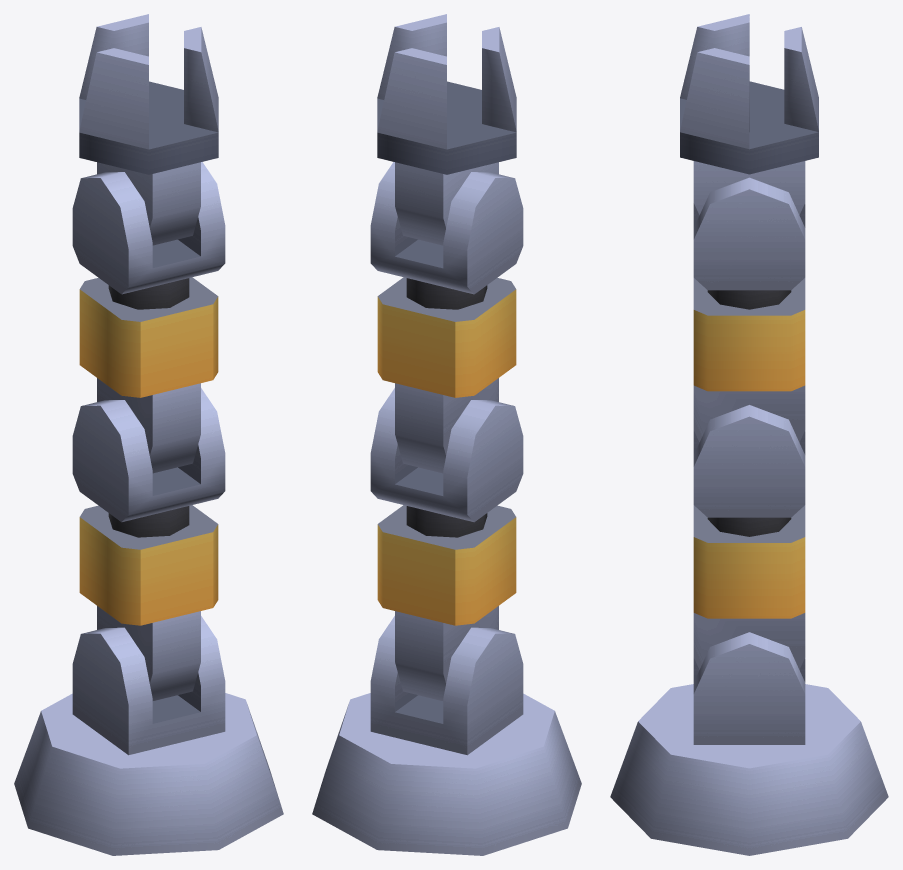
Rendered from kcv_robot_arm_b.glb.
3 renders of one model, left to right at view 1: azimuth 30°, elevation 25°; view 2: azimuth 150°, elevation 25°; view 3: azimuth 270°, elevation 25°, orthographic.
Visible parts, largest first — view 1: robot-arm-b, element-f, element-b, element-d, element-a, element-e, element-c; view 2: robot-arm-b, element-f, element-b, element-d, element-a, element-e, element-c; view 3: robot-arm-b, element-f, element-b, element-d, element-a, element-e, element-c.
Boxes of the visible parts, x1=… form: robot-arm-b: x1=14, y1=693, x2=283, y2=855; element-f: x1=79, y1=14, x2=218, y2=245; element-b: x1=79, y1=505, x2=218, y2=700; element-d: x1=79, y1=277, x2=218, y2=473; element-a: x1=72, y1=616, x2=225, y2=755; element-e: x1=72, y1=162, x2=225, y2=294; element-c: x1=72, y1=388, x2=225, y2=522; robot-arm-b: x1=312, y1=693, x2=581, y2=855; element-f: x1=377, y1=14, x2=516, y2=245; element-b: x1=377, y1=505, x2=516, y2=700; element-d: x1=377, y1=277, x2=516, y2=473; element-a: x1=370, y1=616, x2=523, y2=755; element-e: x1=370, y1=162, x2=523, y2=294; element-c: x1=370, y1=388, x2=523, y2=522; robot-arm-b: x1=610, y1=684, x2=888, y2=855; element-f: x1=680, y1=14, x2=818, y2=214; element-b: x1=693, y1=505, x2=805, y2=669; element-d: x1=693, y1=278, x2=805, y2=442; element-a: x1=693, y1=632, x2=805, y2=744; element-e: x1=693, y1=177, x2=805, y2=290; element-c: x1=693, y1=405, x2=805, y2=517.
Bounding box in the file's own units: 0.8667 × 2.6 × 0.8667.
1 material, 1 textured.
